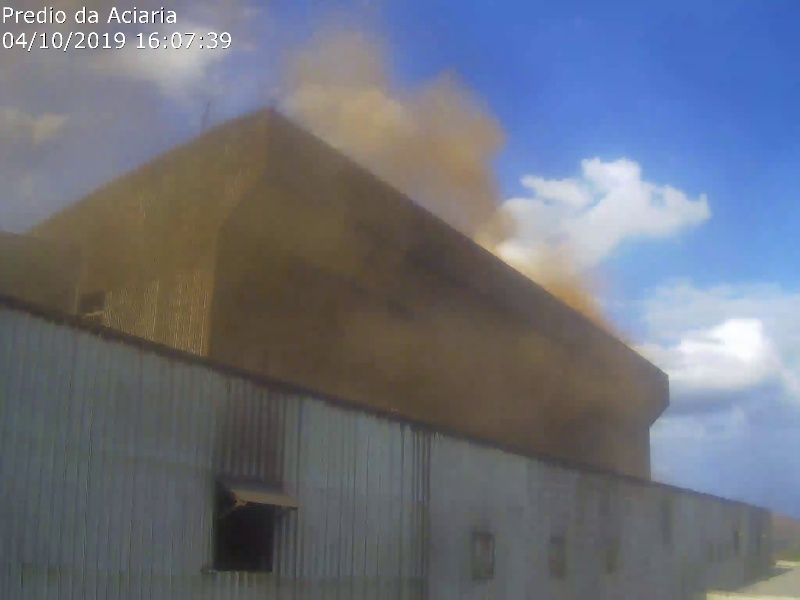pessimo: (72, 106, 633, 431)
